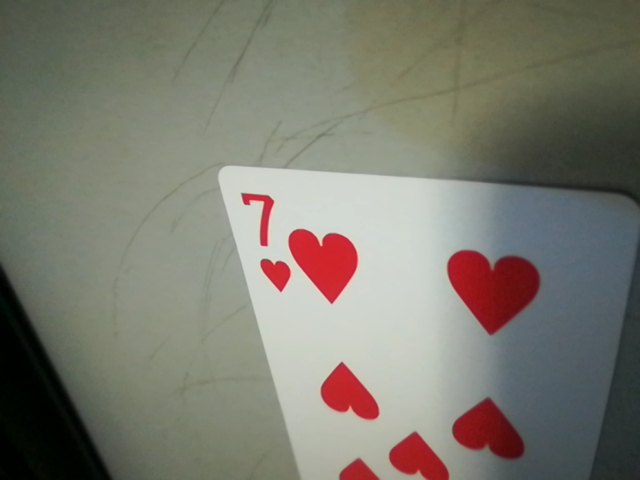hx 7: (232, 181, 293, 301)
